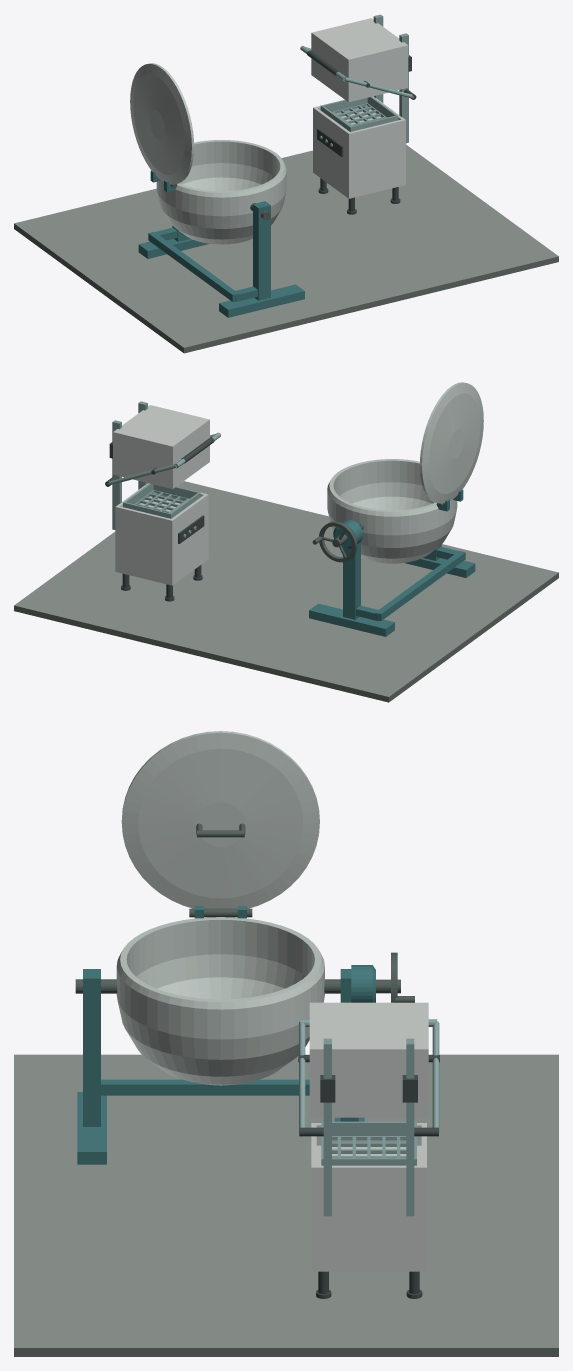
3 views of the same model, one above another, from view 1: azimuth 30°, elevation 25°; view 2: azimuth 150°, elevation 25°; view 3: azimuth 270°, elevation 25° (orthographic). The views are drawn at different scales.
Parts seen in each view (by area): view 1: SCENE_ONLY__DisplayFloor, kettle__WholeThickRoundedBowlAndEmptyInterior, washer__WholeLowerCabinetWithOpenSquareWell, washer__WholeRaisedFourWallAndRoofHood, kettle__WholeRaisedShallowDomedLid, washer__WholeOpenCellAndRaisedRimDishRack, kettle__WholeLeftTrunnionEndPost, kettle__WholeLeftForeAftGroundFoot, kettle__WholeRearLowCrossbar, kettle__WholeRightForeAftGroundFoot, washer__WholeRearVerticalGuide_1; view 2: SCENE_ONLY__DisplayFloor, kettle__WholeThickRoundedBowlAndEmptyInterior, washer__WholeLowerCabinetWithOpenSquareWell, washer__WholeRaisedFourWallAndRoofHood, kettle__WholeRaisedShallowDomedLid, washer__WholeOpenCellAndRaisedRimDishRack, kettle__WholeRightForeAftGroundFoot, kettle__WholeRearLowCrossbar, kettle__WholeRightTrunnionEndPost, kettle__WholeLeftForeAftGroundFoot, kettle__WholeOpenHandwheelRim, washer__WholeRearVerticalGuide_-1 (+1 smaller); view 3: SCENE_ONLY__DisplayFloor, kettle__WholeThickRoundedBowlAndEmptyInterior, kettle__WholeRaisedShallowDomedLid, washer__WholeLowerCabinetWithOpenSquareWell, washer__WholeRaisedFourWallAndRoofHood, washer__WholeOpenCellAndRaisedRimDishRack, kettle__WholeRearLowCrossbar, kettle__WholeLeftTrunnionEndPost, kettle__WholeLeftForeAftGroundFoot, washer__WholeRearVerticalGuide_-1, washer__WholeRearVerticalGuide_1, kettle__WholeSideControlCase (+1 smaller).
Boxes of the visible parts, left/top/right/bottom form: SCENE_ONLY__DisplayFloor: left=14, top=144, right=558, bottom=353; kettle__WholeThickRoundedBowlAndEmptyInterior: left=156, top=140, right=286, bottom=244; washer__WholeLowerCabinetWithOpenSquareWell: left=313, top=96, right=405, bottom=198; washer__WholeRaisedFourWallAndRoofHood: left=311, top=18, right=408, bottom=102; kettle__WholeRaisedShallowDomedLid: left=130, top=63, right=194, bottom=184; washer__WholeOpenCellAndRaisedRimDishRack: left=320, top=96, right=398, bottom=131; kettle__WholeLeftTrunnionEndPost: left=253, top=201, right=270, bottom=300; kettle__WholeLeftForeAftGroundFoot: left=219, top=284, right=304, bottom=317; kettle__WholeRearLowCrossbar: left=148, top=231, right=238, bottom=301; kettle__WholeRightForeAftGroundFoot: left=138, top=239, right=209, bottom=258; washer__WholeRearVerticalGuide_1: left=399, top=33, right=408, bottom=143; SCENE_ONLY__DisplayFloor: left=14, top=481, right=558, bottom=702; kettle__WholeThickRoundedBowlAndEmptyInterior: left=327, top=459, right=457, bottom=563; washer__WholeLowerCabinetWithOpenSquareWell: left=115, top=483, right=208, bottom=585; washer__WholeRaisedFourWallAndRoofHood: left=113, top=405, right=209, bottom=488; kettle__WholeRaisedShallowDomedLid: left=419, top=382, right=483, bottom=503; washer__WholeOpenCellAndRaisedRimDishRack: left=123, top=483, right=200, bottom=518; kettle__WholeRightForeAftGroundFoot: left=309, top=603, right=394, bottom=636; kettle__WholeRearLowCrossbar: left=375, top=551, right=465, bottom=620; kettle__WholeRightTrunnionEndPost: left=343, top=522, right=360, bottom=619; kettle__WholeLeftForeAftGroundFoot: left=405, top=558, right=475, bottom=577; kettle__WholeOpenHandwheelRim: left=319, top=521, right=357, bottom=562; washer__WholeRearVerticalGuide_-1: left=112, top=420, right=121, bottom=529; SCENE_ONLY__DisplayFloor: left=14, top=1054, right=558, bottom=1356; kettle__WholeThickRoundedBowlAndEmptyInterior: left=116, top=917, right=324, bottom=1085; kettle__WholeRaisedShallowDomedLid: left=121, top=731, right=319, bottom=908; washer__WholeLowerCabinetWithOpenSquareWell: left=311, top=1123, right=426, bottom=1271; washer__WholeRaisedFourWallAndRoofHood: left=309, top=1002, right=428, bottom=1117; washer__WholeOpenCellAndRaisedRimDishRack: left=321, top=1121, right=416, bottom=1165; kettle__WholeRearLowCrossbar: left=101, top=1079, right=309, bottom=1095; kettle__WholeLeftTrunnionEndPost: left=83, top=969, right=100, bottom=1126; kettle__WholeLeftForeAftGroundFoot: left=77, top=1092, right=106, bottom=1164; washer__WholeRearVerticalGuide_-1: left=406, top=1038, right=414, bottom=1216; washer__WholeRearVerticalGuide_1: left=323, top=1038, right=331, bottom=1216; kettle__WholeSideControlCase: left=351, top=965, right=375, bottom=1002.
Size of the model in its own units: 4.2 by 2.44 by 3.3.
